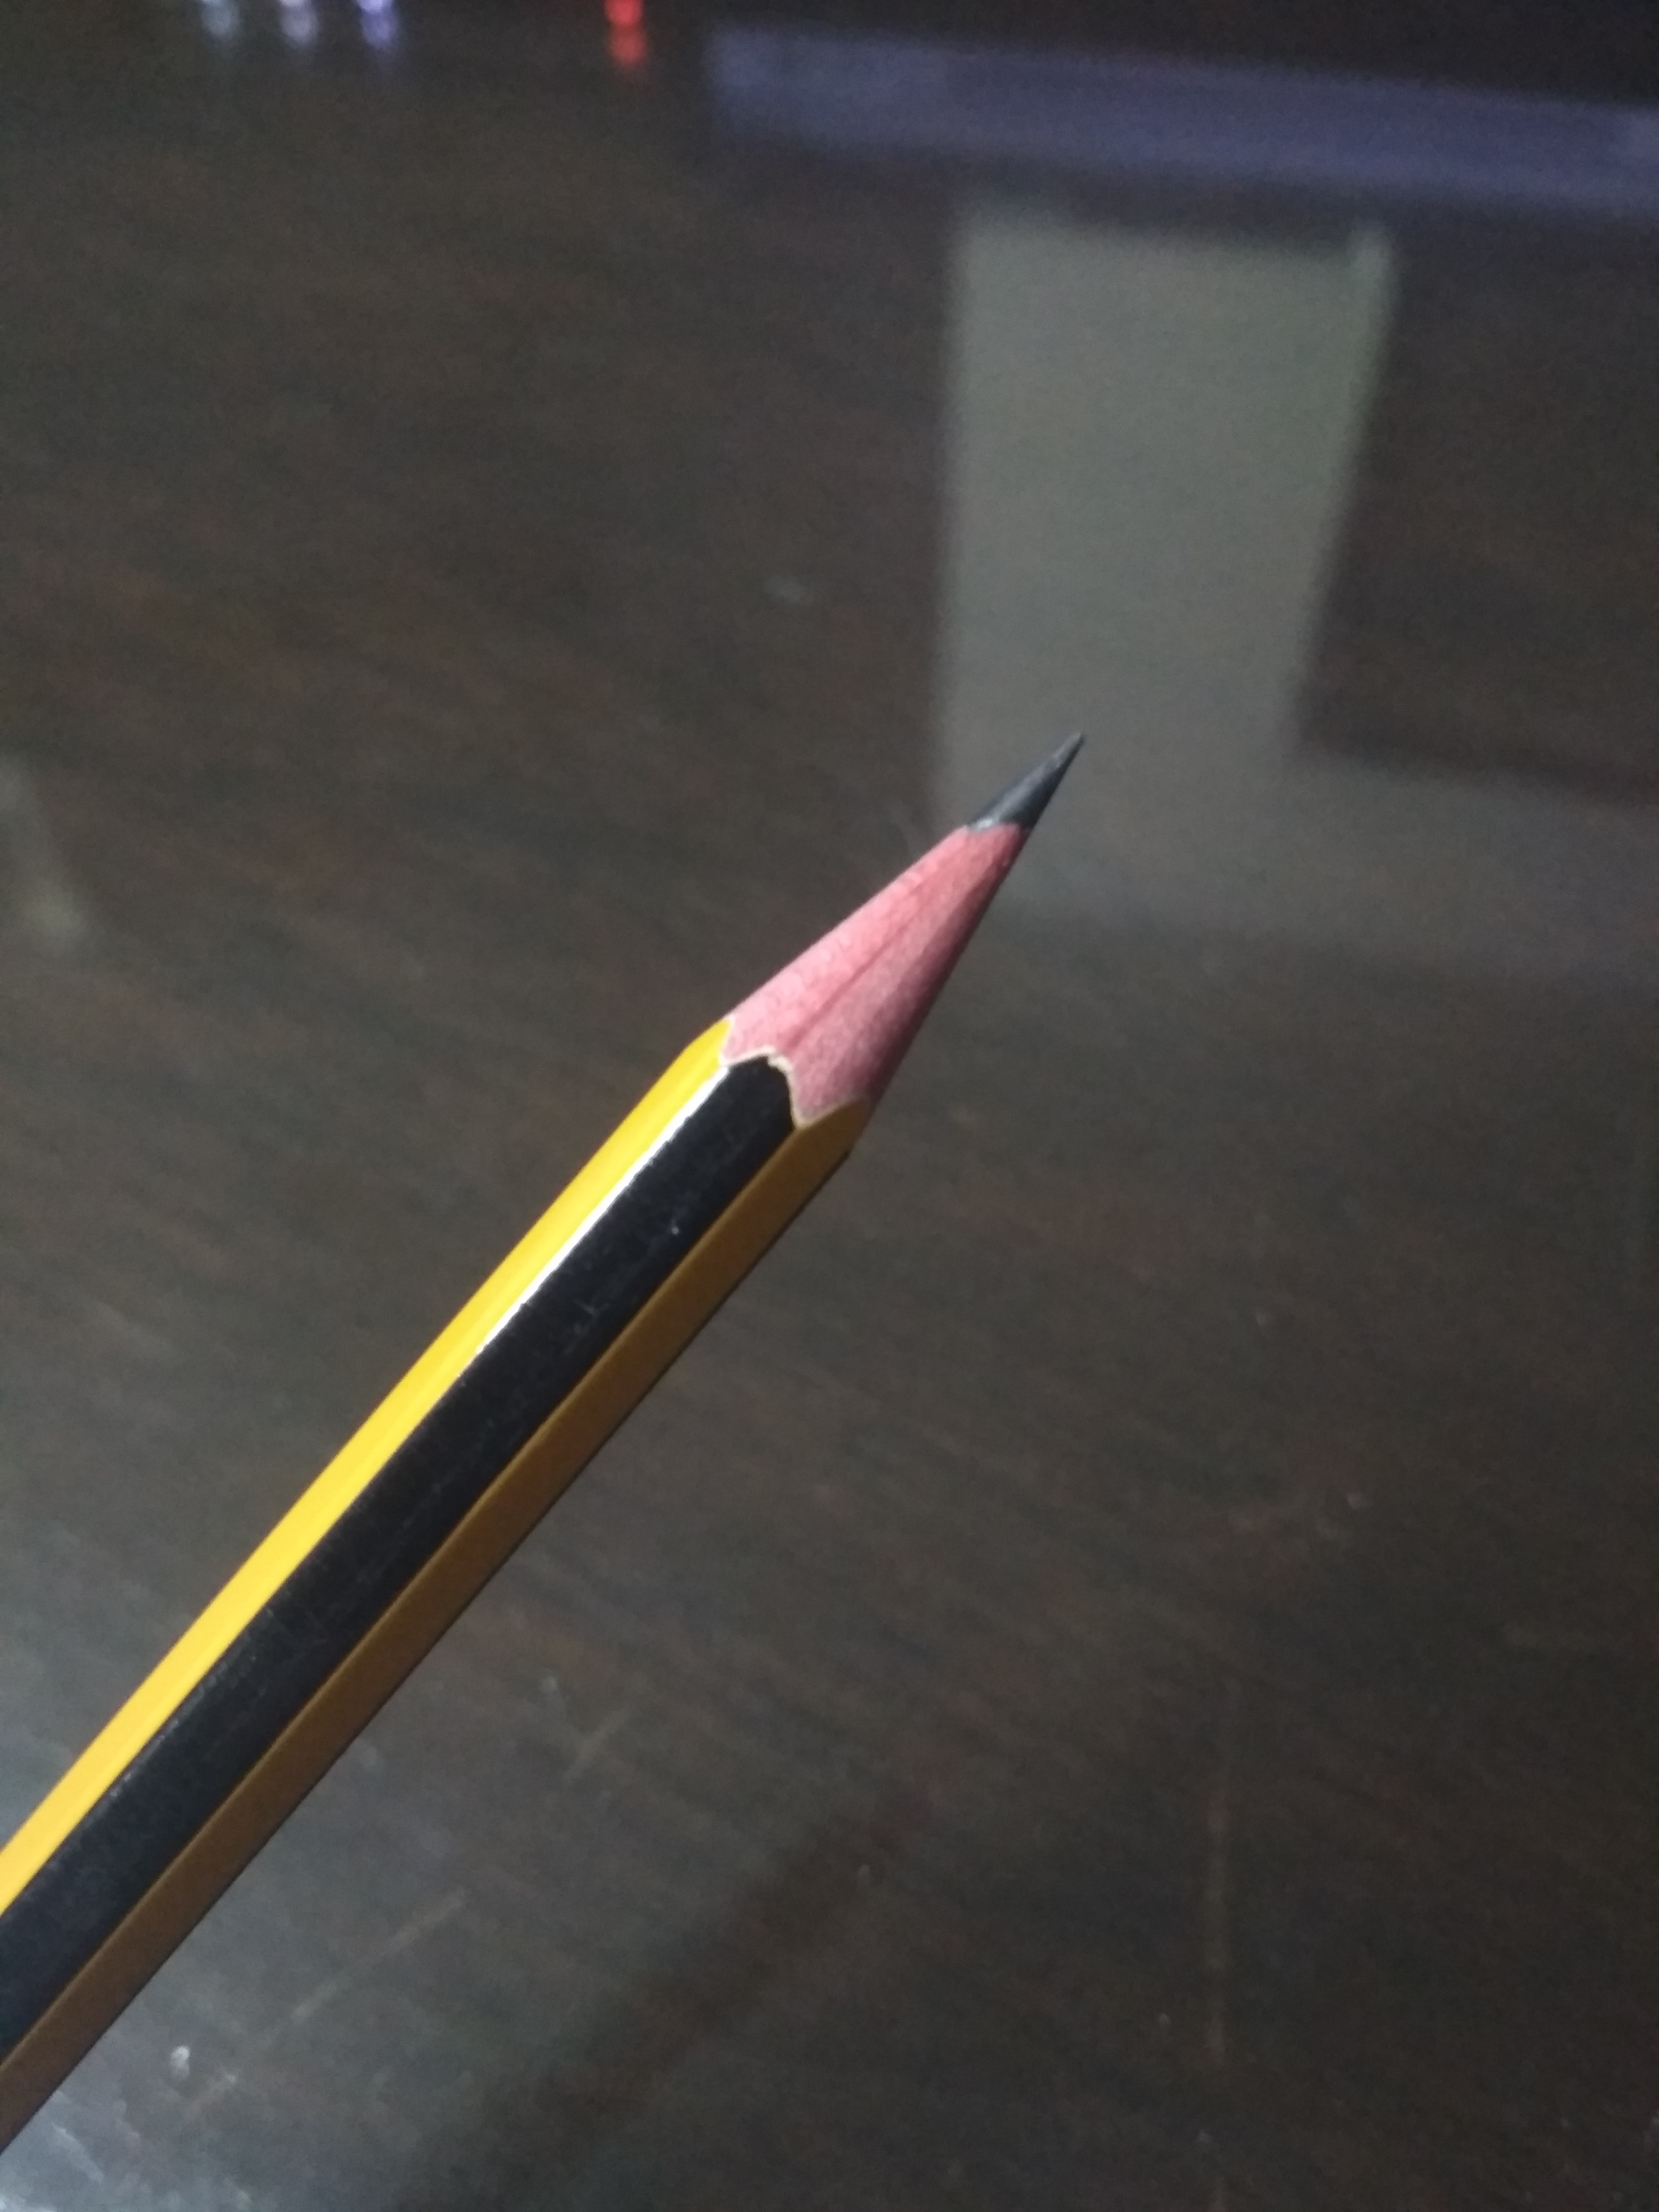pen_tip: (657, 627, 1141, 1251)
